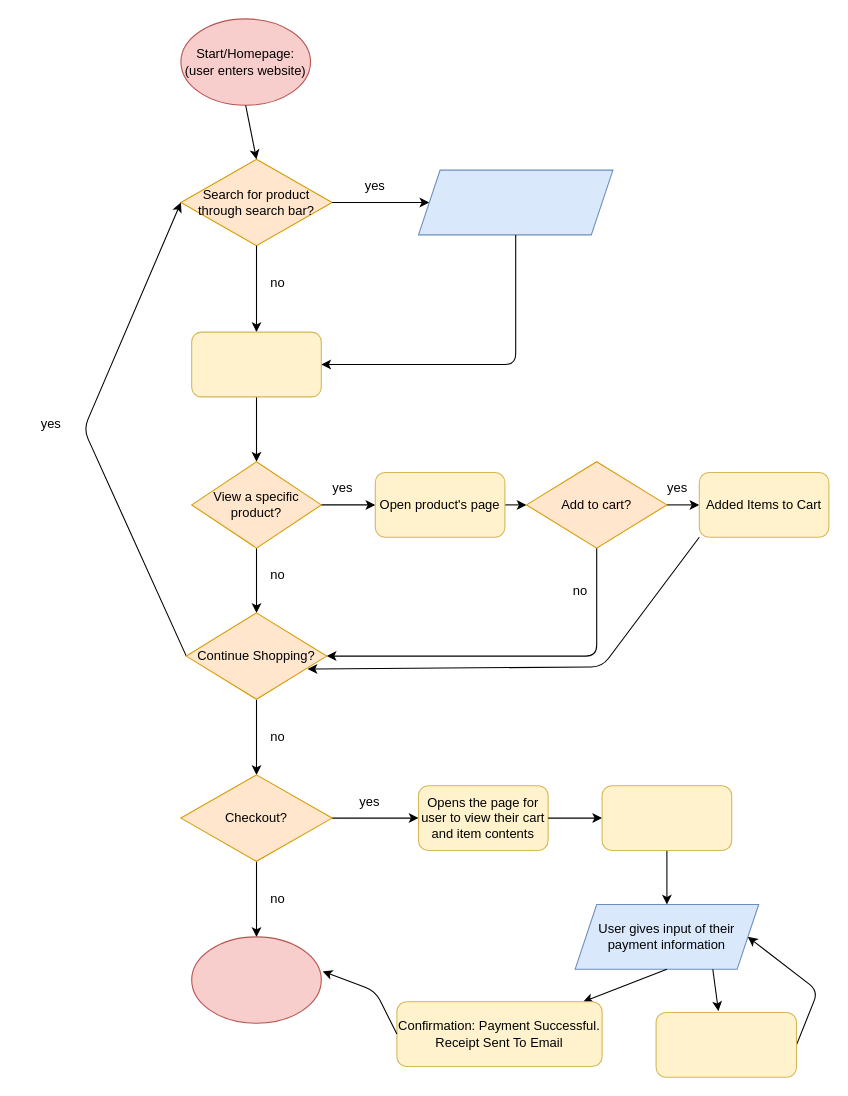
Some shapes in this 848 by 1096 pixel diagram are drawn without their labels. The centre of each missing label's shape, as x and y in pixels:
Begin browsing and looking over products: [256,364]
End: Exit Website: [256,979]
Error: Payment Failed. Please enter your information again.: [725,1044]
Opens Payment Screen: [666,817]
Provide input to search for product: [515,202]
